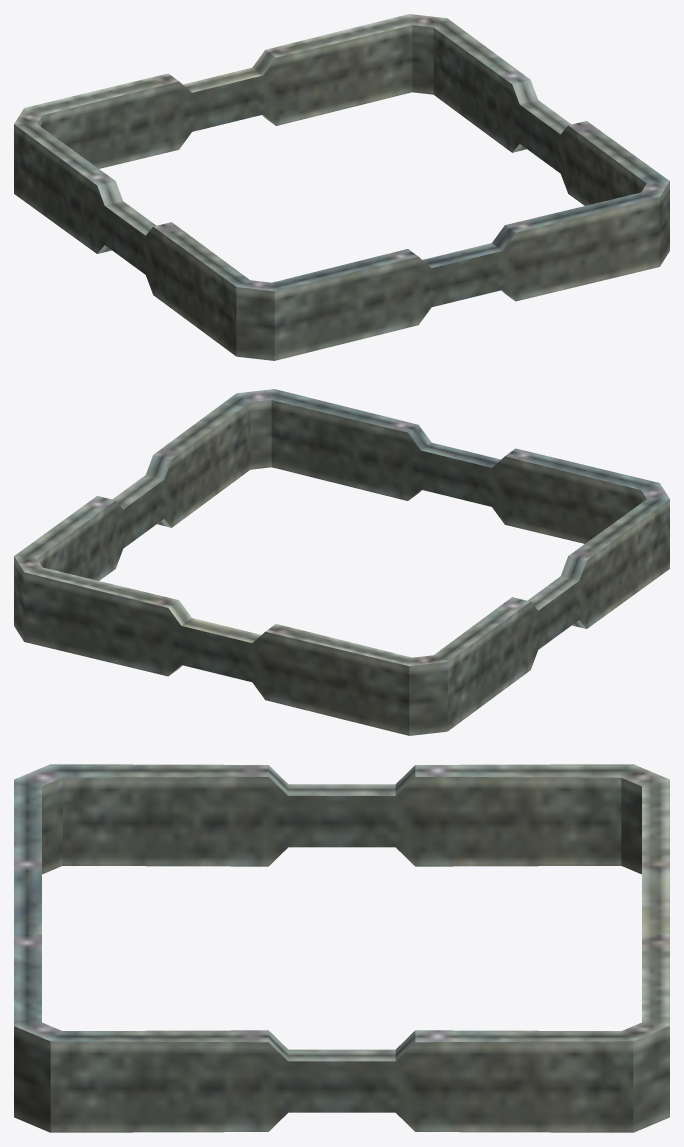
Rendered from BoxBeltLG_sym.FBX.
3 views of the same model, one above another, from view 1: azimuth 30°, elevation 25°; view 2: azimuth 150°, elevation 25°; view 3: azimuth 270°, elevation 25° (orthographic). The views are drawn at different scales.
Visible parts, largest first — view 1: BoxBeltLG_sym; view 2: BoxBeltLG_sym; view 3: BoxBeltLG_sym.
Boxes of the visible parts, left/top/right/bottom form: BoxBeltLG_sym: left=14, top=14, right=669, bottom=360; BoxBeltLG_sym: left=14, top=389, right=669, bottom=735; BoxBeltLG_sym: left=14, top=764, right=669, bottom=1132.
Bounding box in the file's own units: 222 × 34.18 × 222.
